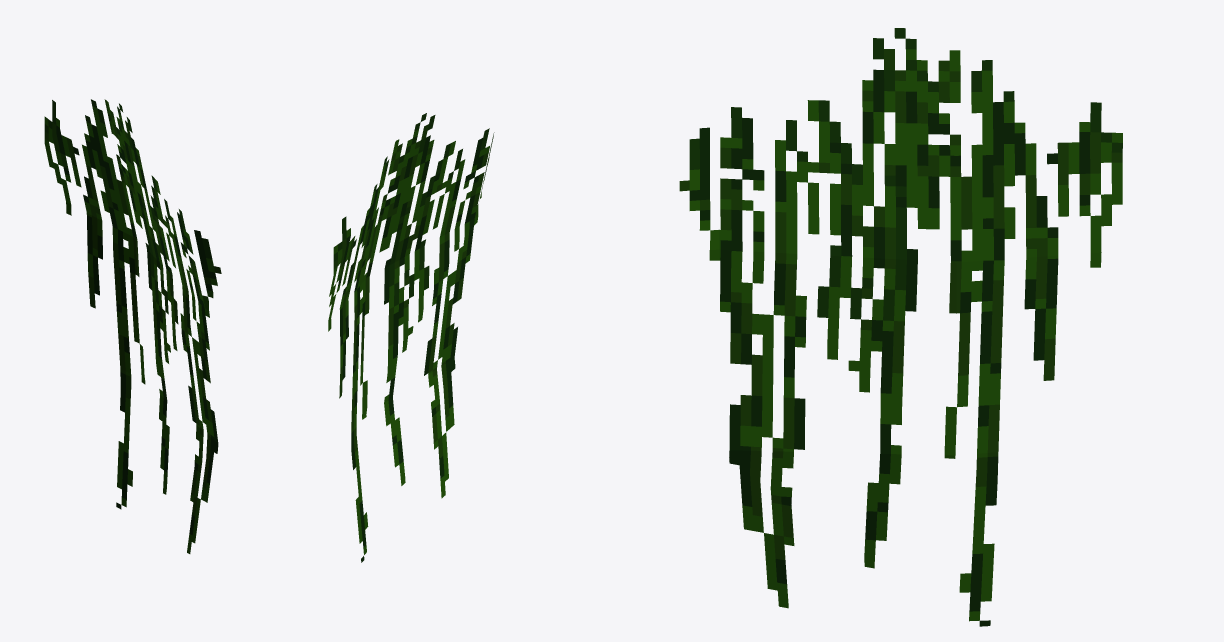
The model's file is moss3.glb.
3 views of the same model, side by side, from view 1: azimuth 30°, elevation 25°; view 2: azimuth 150°, elevation 25°; view 3: azimuth 270°, elevation 25° (orthographic). The views are drawn at different scales.
Parts seen in each view (by area): view 1: Plane; view 2: Plane; view 3: Plane.
Boxes of the visible parts, <box> form: Plane: <box>44,99,221,553</box>; Plane: <box>328,113,494,562</box>; Plane: <box>679,28,1122,626</box>.
Size of the model in its own units: 0.1387 by 1 by 1.
1 material, 1 textured.
